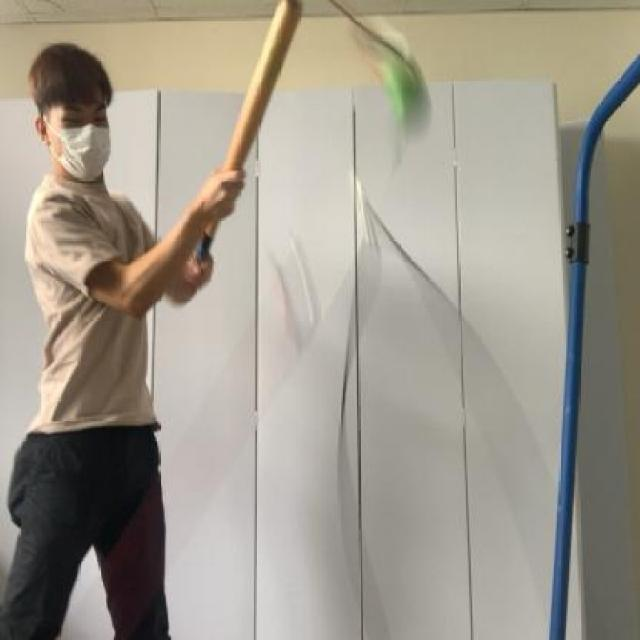baseball: (354, 40, 438, 140)
